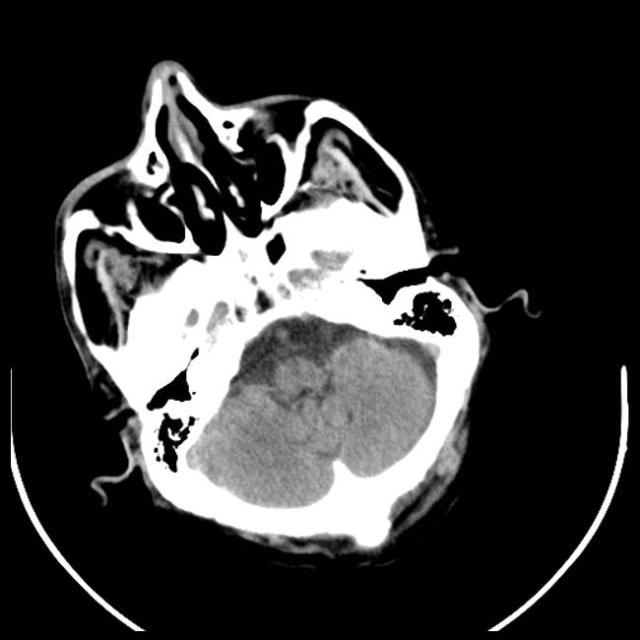lesion: (49, 57, 538, 563)
